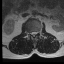CCS_normal: (33, 29, 35, 38)
LFS_normal: (37, 29, 39, 34)
LLS_normal: (35, 29, 37, 36)
RFS_stenosis: (28, 29, 30, 35)
RLS_normal: (30, 29, 33, 36)
